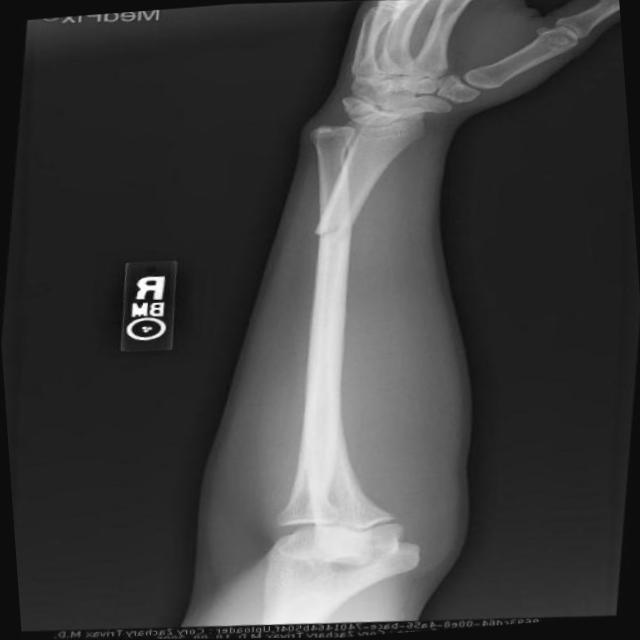Transverse Displaced: (287, 193, 382, 266)
